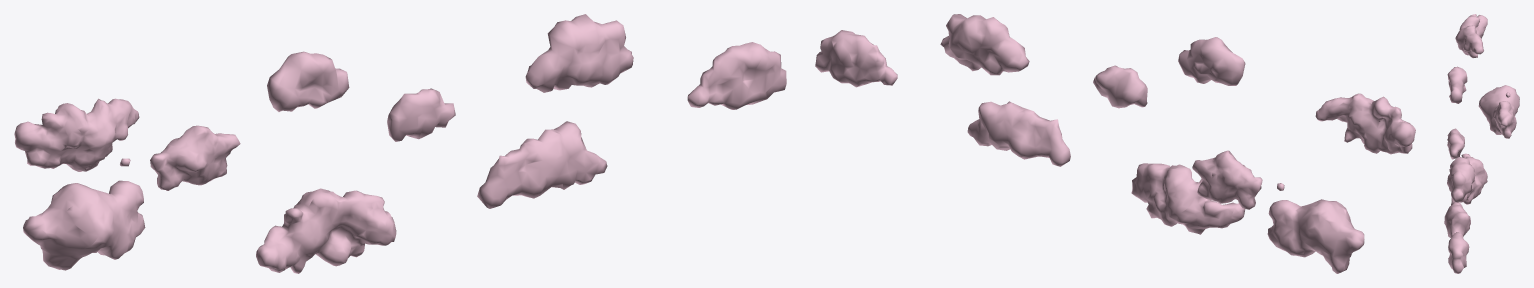
Rendered from clouds_right.glb.
3 views of the same model, side by side, from view 1: azimuth 30°, elevation 25°; view 2: azimuth 150°, elevation 25°; view 3: azimuth 270°, elevation 25° (orthographic). The views are drawn at different scales.
Visible parts, largest first — view 1: Mball.001, Mball.004, Mball.007; view 2: Mball.001, Mball.004, Mball.007; view 3: Mball.001, Mball.004, Mball.007.
Part boxes in pixels (left/top/right/bottom): Mball.001: left=267, top=14, right=786, bottom=208; Mball.004: left=14, top=98, right=240, bottom=270; Mball.007: left=256, top=188, right=396, bottom=273; Mball.001: left=815, top=14, right=1245, bottom=166; Mball.004: left=1192, top=93, right=1415, bottom=273; Mball.007: left=1131, top=163, right=1245, bottom=234; Mball.001: left=1444, top=66, right=1475, bottom=273; Mball.004: left=1455, top=14, right=1519, bottom=138; Mball.007: left=1459, top=153, right=1487, bottom=204.
Size of the model in its own units: 89.74 by 26.62 by 14.84.
